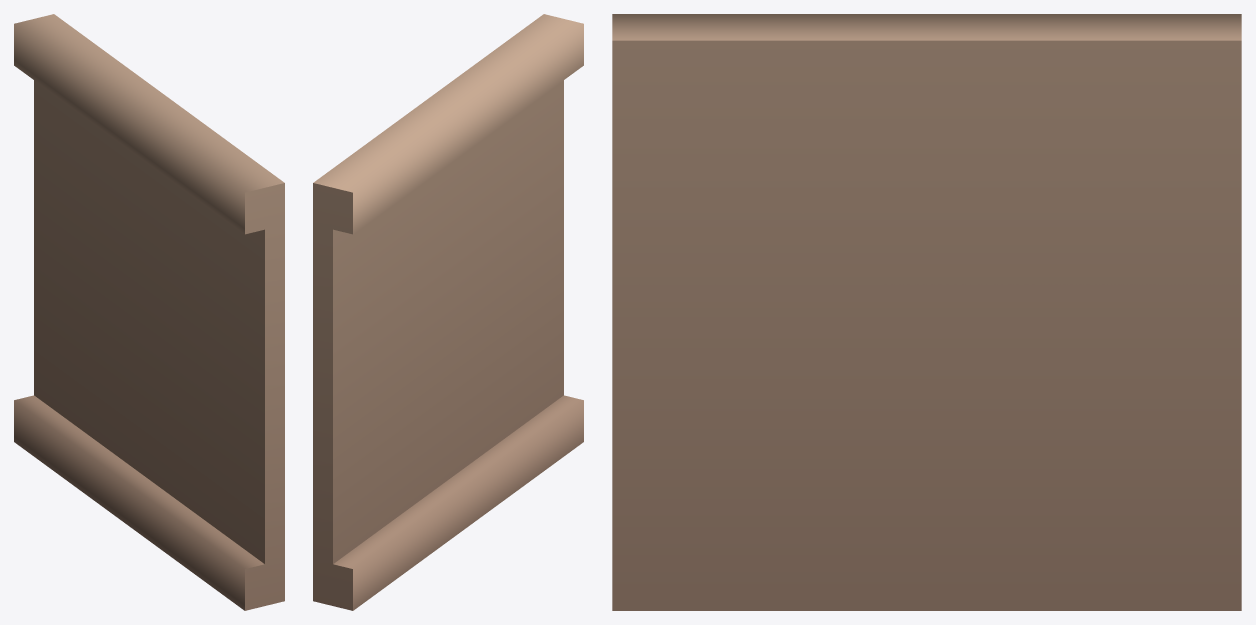
Rendered from baseboard-detailed-high-half (%wall).glb.
3 views of the same model, side by side, from view 1: azimuth 30°, elevation 25°; view 2: azimuth 150°, elevation 25°; view 3: azimuth 270°, elevation 25° (orthographic). The views are drawn at different scales.
Parts seen in each view (by area): view 1: baseboard-detailed-high-half (%wall); view 2: baseboard-detailed-high-half (%wall); view 3: baseboard-detailed-high-half (%wall).
Part boxes in pixels (bbox=[...]): baseboard-detailed-high-half (%wall): bbox=[14, 14, 284, 610]; baseboard-detailed-high-half (%wall): bbox=[313, 14, 583, 610]; baseboard-detailed-high-half (%wall): bbox=[612, 14, 1241, 610].
Size of the model in its own units: 0.05 by 0.5 by 0.5.
